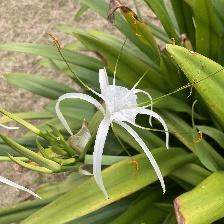spider lily: (81, 68, 167, 151)
